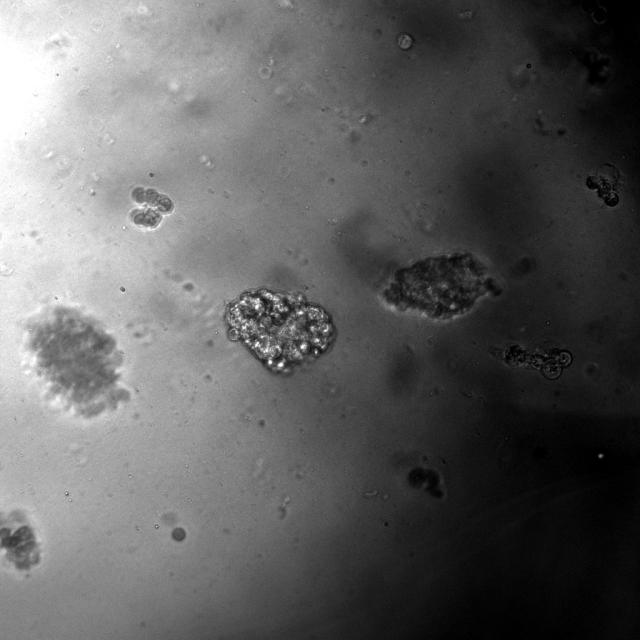organoid: (24, 305, 129, 418), (225, 288, 334, 371), (381, 252, 501, 321), (0, 507, 43, 577), (502, 344, 572, 379), (129, 186, 174, 230), (585, 171, 621, 209), (396, 32, 414, 50), (172, 527, 185, 540)
